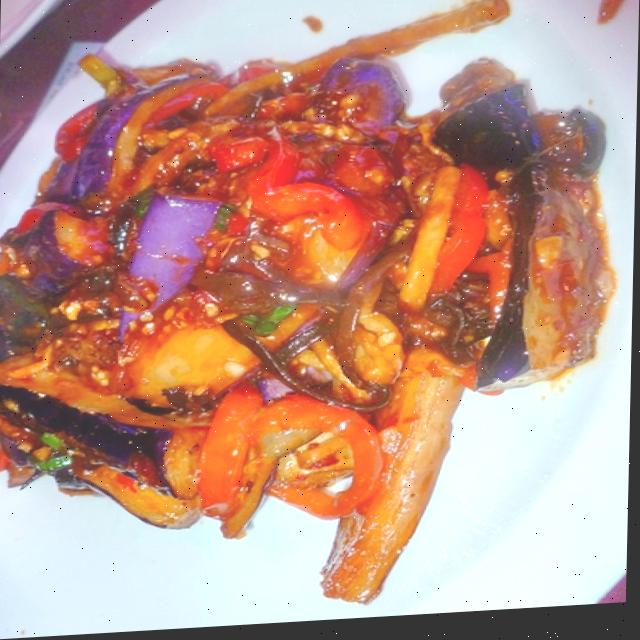鸡蛋料理: (0, 0, 598, 576)
